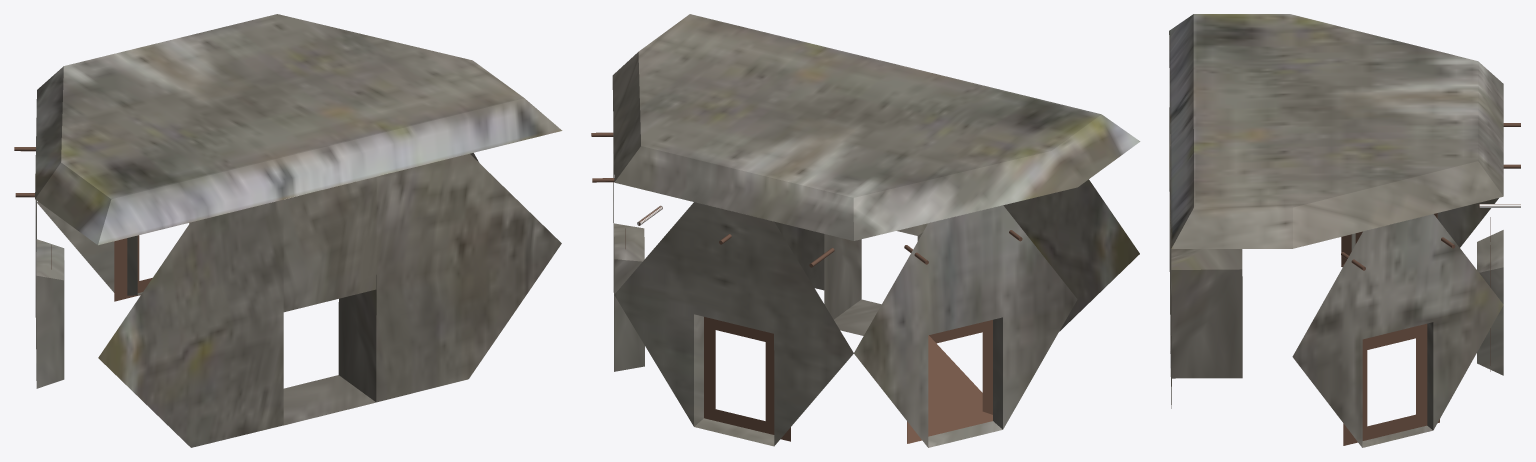
The model's file is bw-bunker.zfix-v3.lod1.glb.
3 renders of one model, left to right at view 1: azimuth 30°, elevation 25°; view 2: azimuth 150°, elevation 25°; view 3: azimuth 270°, elevation 25°, orthographic. The views are drawn at different scales.
Parts seen in each view (by area): view 1: Cube.001_0, pin1_0; view 2: Cube.001_0, pin1_0, Cylinder.016_0; view 3: Cube.001_0, pin1_0.
Boxes of the visible parts, x1,y1,x2,y2 form: Cube.001_0: [35, 14, 562, 447]; pin1_0: [14, 147, 189, 301]; Cube.001_0: [612, 14, 1140, 447]; pin1_0: [591, 132, 1022, 443]; Cylinder.016_0: [637, 206, 992, 443]; Cube.001_0: [1169, 14, 1503, 447]; pin1_0: [1341, 123, 1520, 445].
Bounding box in the file's own units: 9 × 4.73 × 6.15.
Materials: 3 (2 with a texture image).
